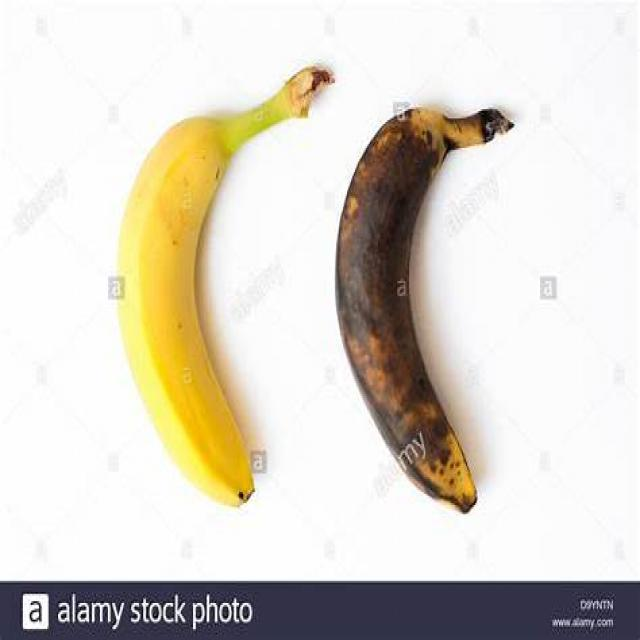Banana: (115, 68, 329, 501), (329, 99, 524, 502)
